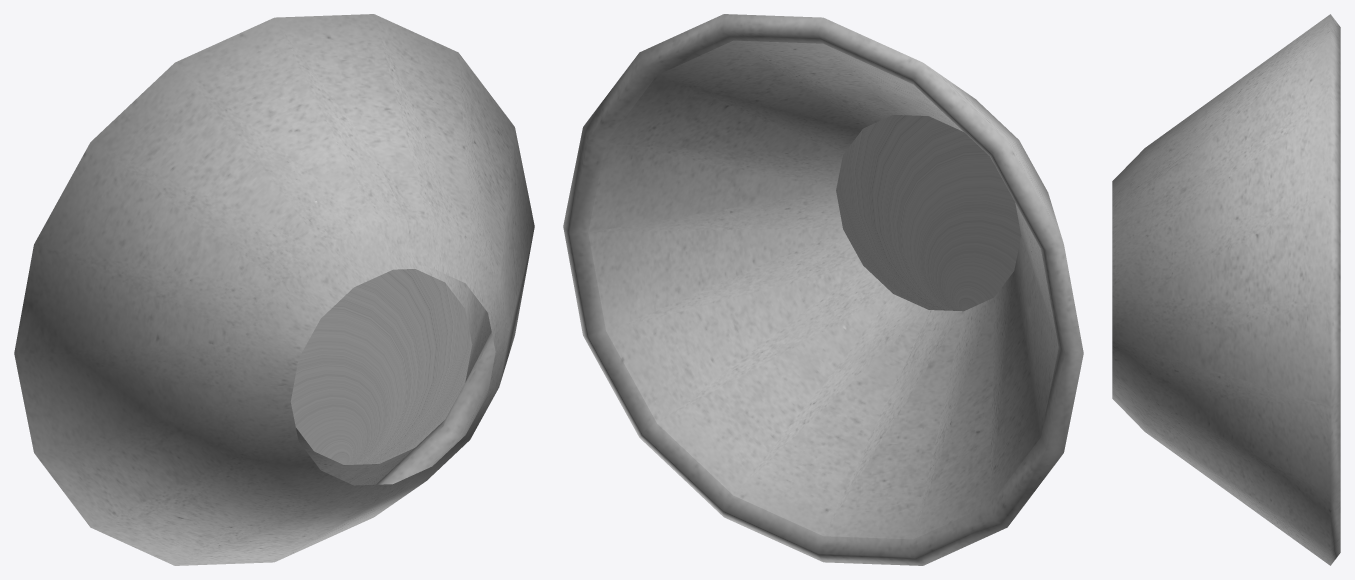
Rendered from vase004.FBX.
3 views of the same model, side by side, from view 1: azimuth 30°, elevation 25°; view 2: azimuth 150°, elevation 25°; view 3: azimuth 270°, elevation 25° (orthographic). The views are drawn at different scales.
Visible parts, largest first — view 1: vase004; view 2: vase004; view 3: vase004.
Part boxes in pixels (x1=…): vase004: x1=14, y1=14, x2=534, y2=565; vase004: x1=563, y1=14, x2=1083, y2=565; vase004: x1=1112, y1=14, x2=1340, y2=565.
Bounding box in the file's own units: 34.55 × 34.55 × 14.28.
